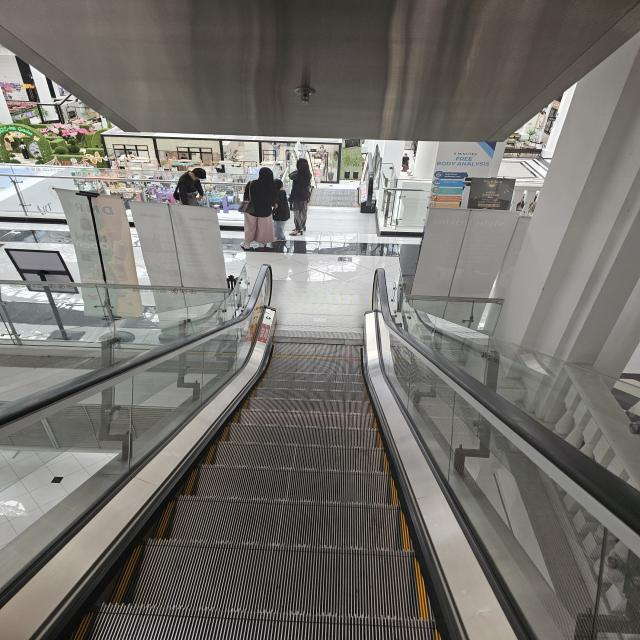escalator: (131, 318, 449, 638)
person: (239, 167, 278, 249), (288, 158, 312, 236), (174, 168, 206, 205), (272, 179, 290, 241)
